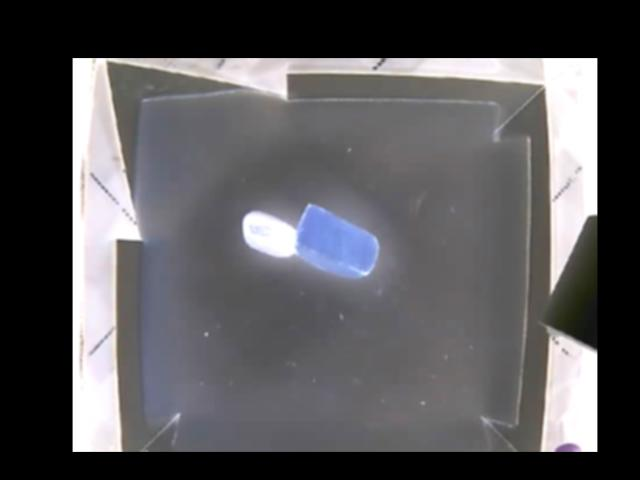Pebble: (241, 211, 297, 259)
Potato: (293, 204, 379, 276)
